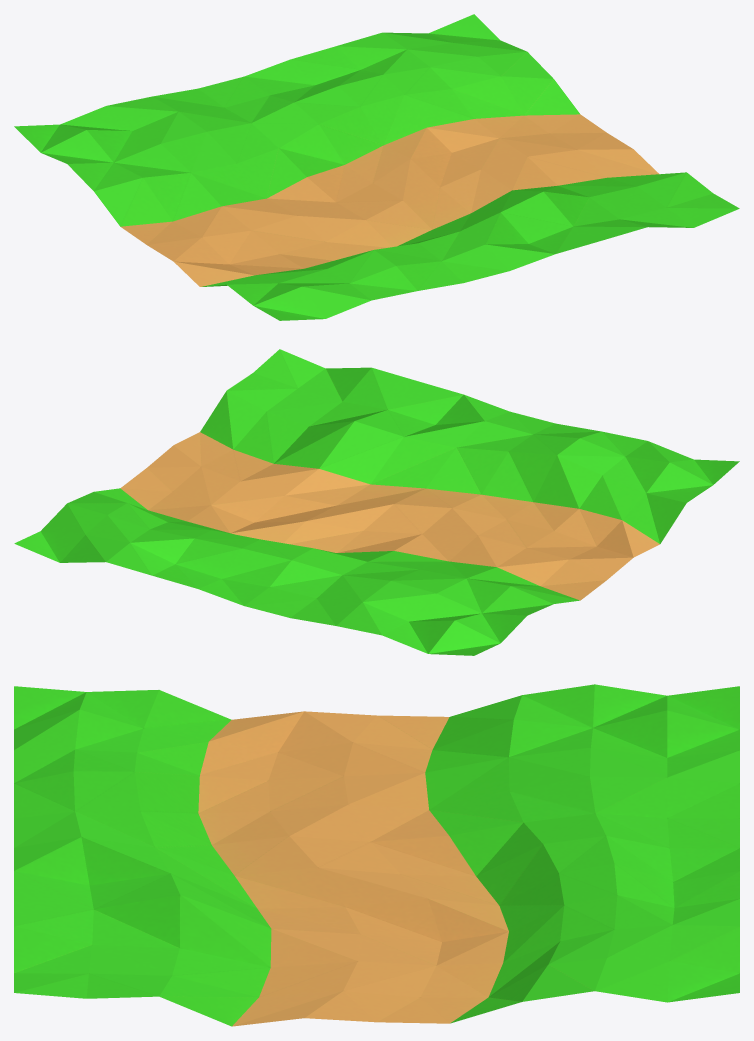
The model's file is road0101.glb.
3 renders of one model, top to bottom at view 1: azimuth 30°, elevation 25°; view 2: azimuth 150°, elevation 25°; view 3: azimuth 270°, elevation 25°, orthographic. The views are drawn at different scales.
Parts seen in each view (by area): view 1: Plain_Straight2.001; view 2: Plain_Straight2.001; view 3: Plain_Straight2.001.
Part boxes in pixels (x1,y1,x2,y2): Plain_Straight2.001: (14,14,739,320); Plain_Straight2.001: (14,349,739,655); Plain_Straight2.001: (14,684,739,1026).
Size of the model in its own units: 10 by 0.6816 by 10.
2 materials, 2 textured.
